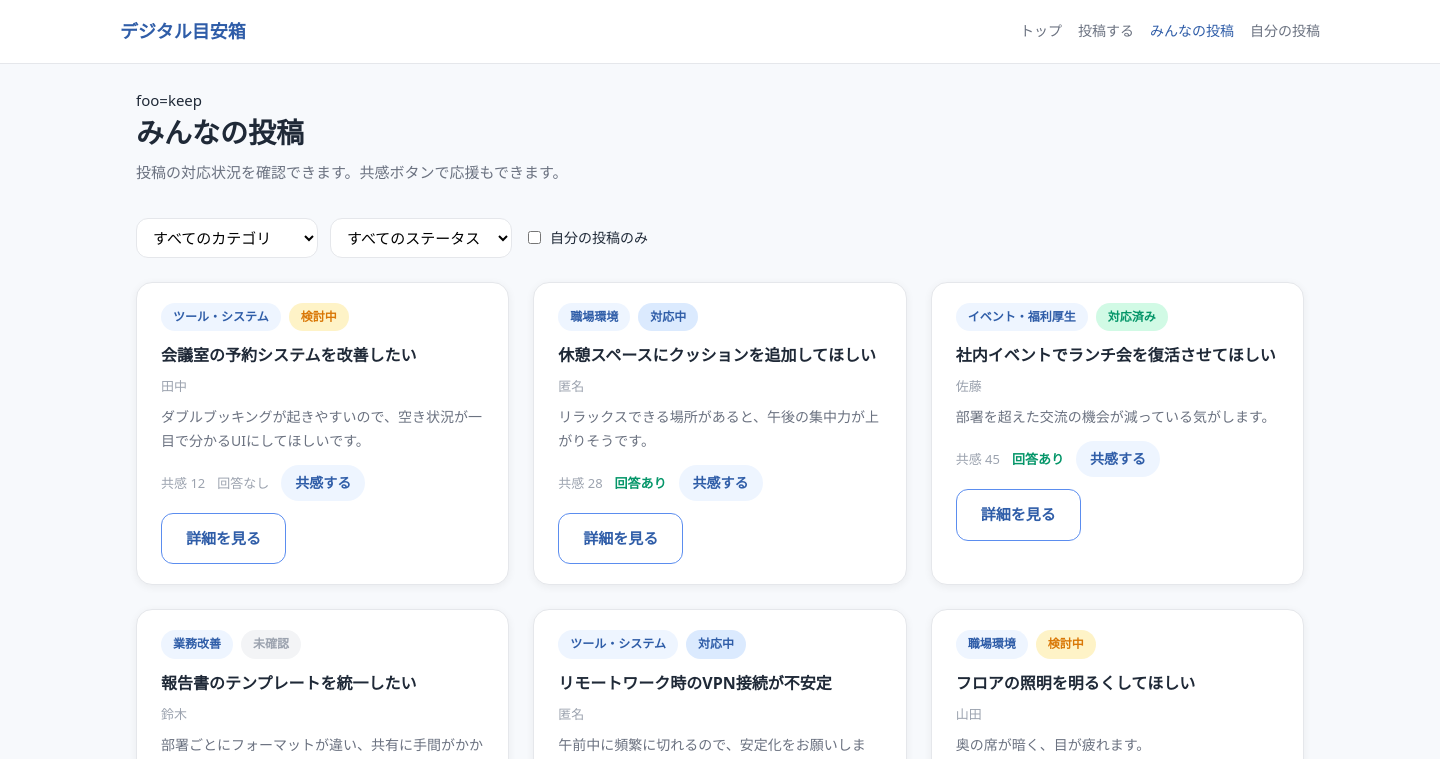
Scenario: ListDetailPage › チェックボックスでも URL の mine と一覧が同期する
Click the checkbox with test id "filter-mine".
click(534, 238)  # box [528, 231, 541, 244]
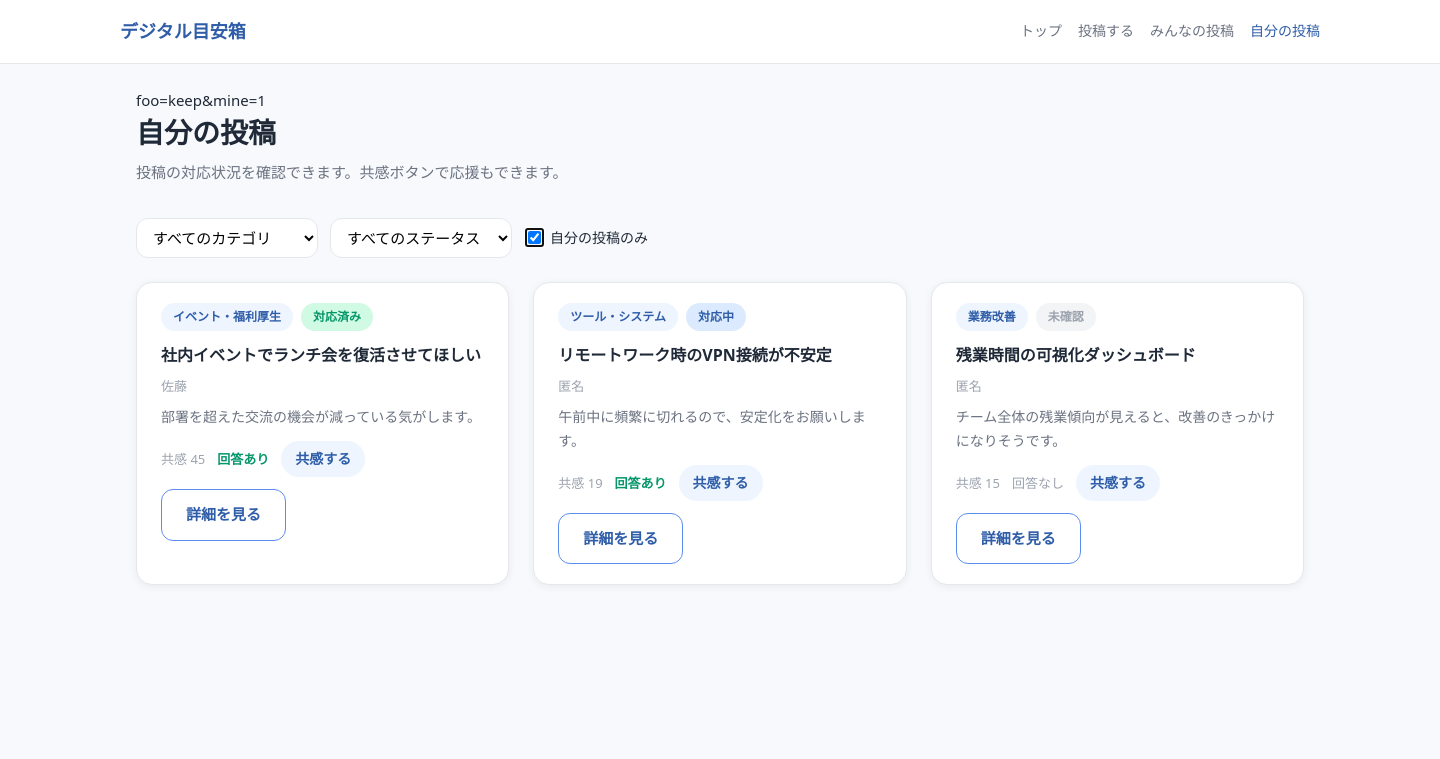
Expected: the text with test id "location-search" shows "foo=keep", [136, 90, 266, 110]
Now the heading "自分の投稿" is shown, box [136, 113, 276, 151]
Now the text with test id "location-search" shows "mine=1", box [136, 90, 266, 110]
Click the checkbox with test id "filter-mine".
click(534, 238)  # box [528, 231, 541, 244]
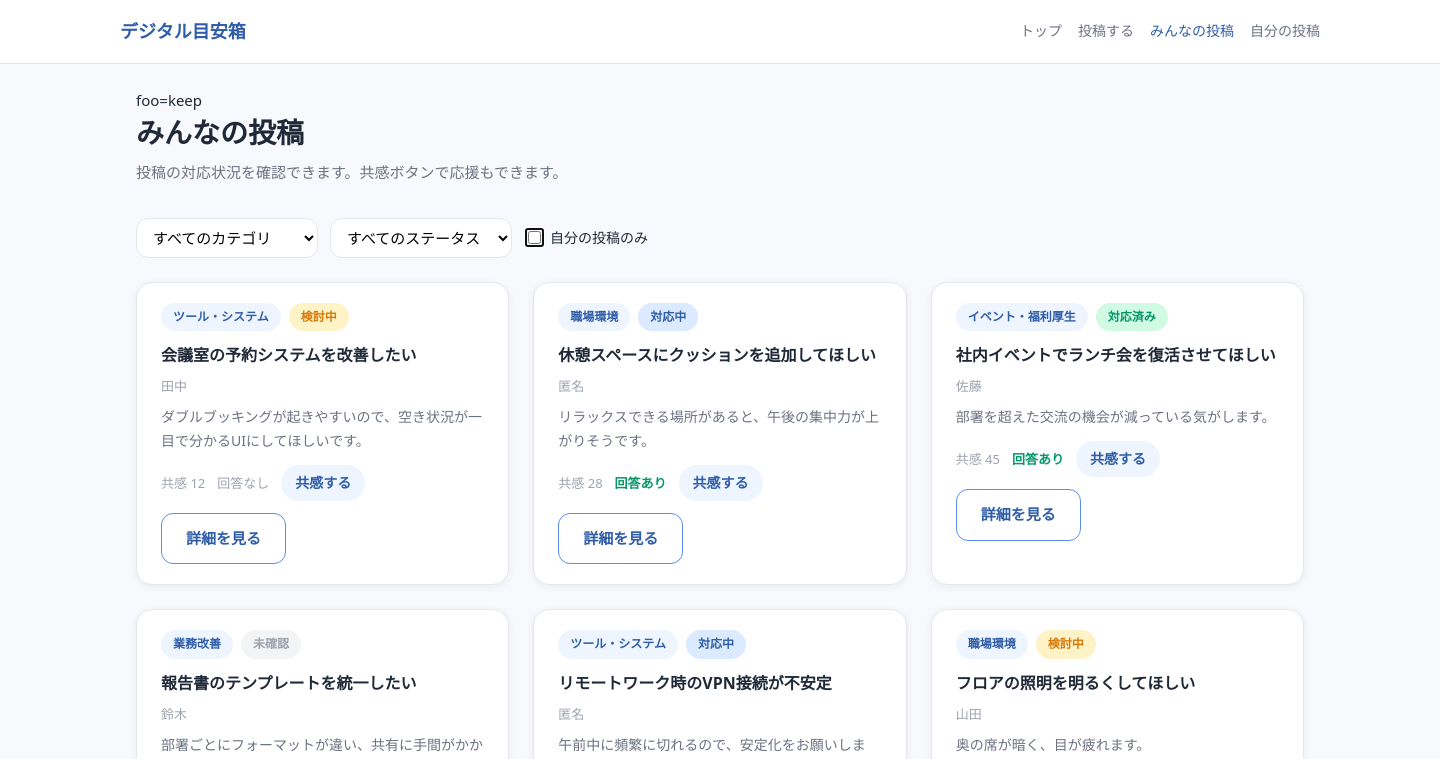
Expected: the text with test id "location-search" reads "foo=keep", [136, 90, 202, 110]
Now the heading "みんなの投稿" is shown, box [136, 113, 304, 151]
